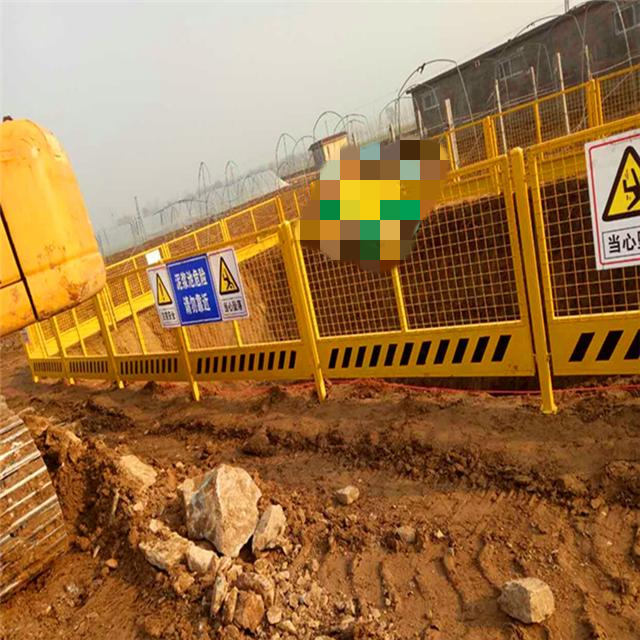slogan: (170, 260, 219, 319)
